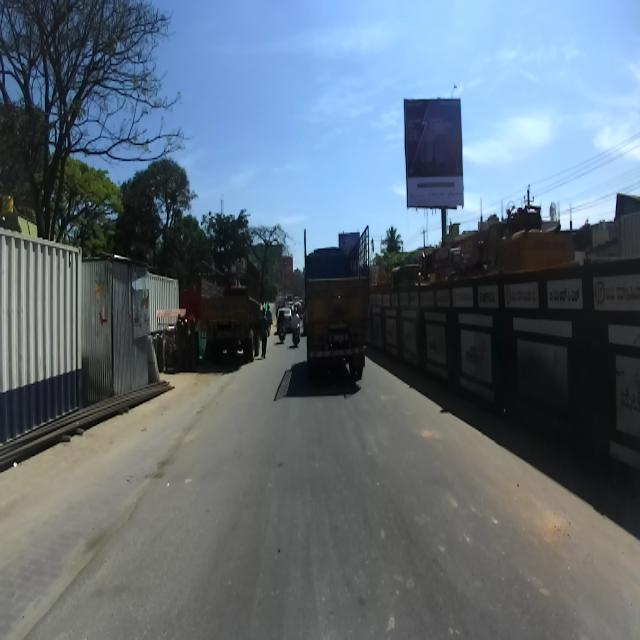truck ahead at: (299, 232, 377, 390), (190, 264, 274, 385)
